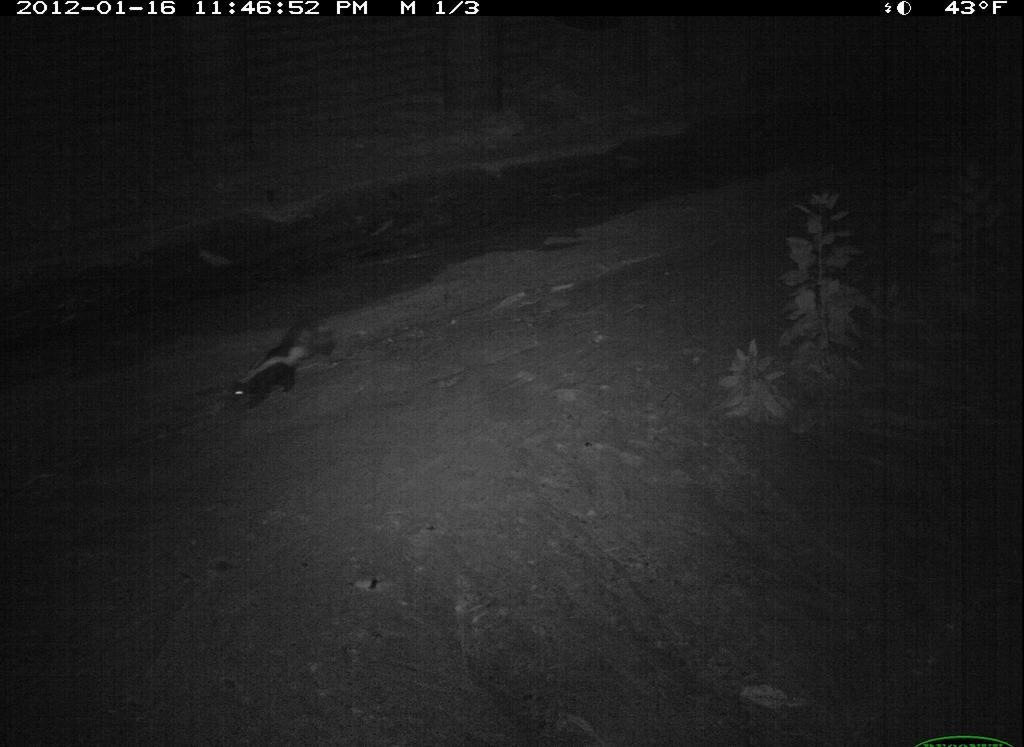skunk: (207, 292, 354, 424)
